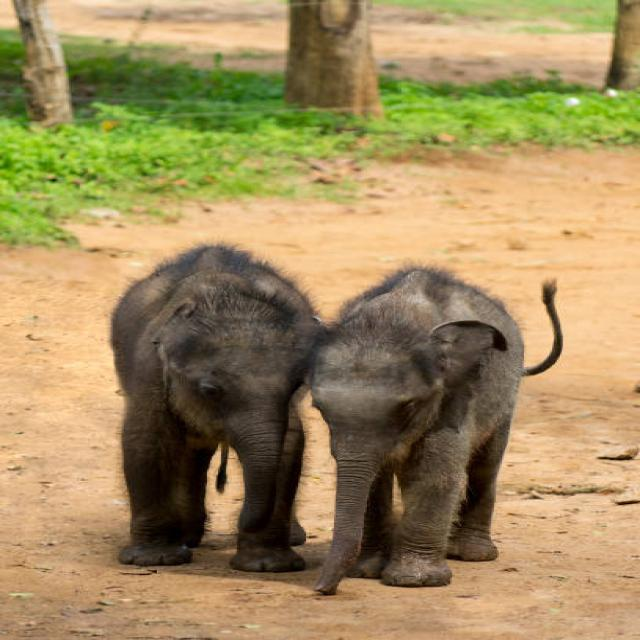Elephant: (288, 245, 576, 587), (76, 227, 328, 561)
